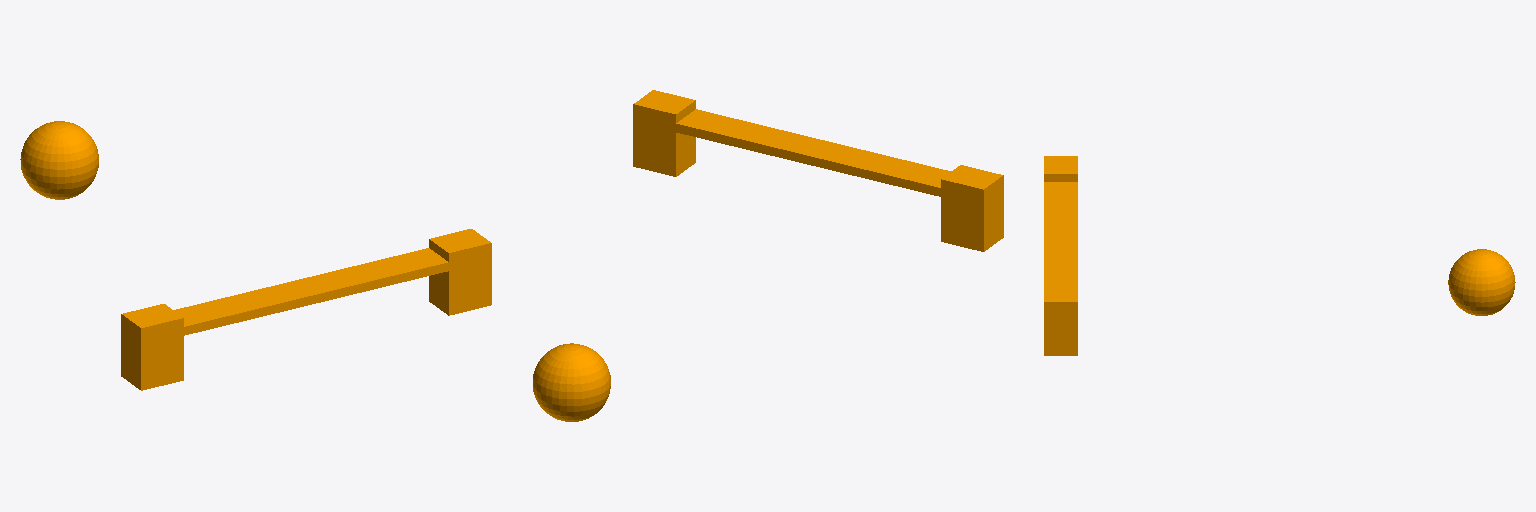
robot.urdf — gate:
<?xml version="1.0" ?>
<robot name = "gate">


    <link name = "base_left">
        <visual>
            <origin xyz = "-0.9 0 0.175" rpy = "0 0 0"/>
 
            <geometry>
                <box size = "0.25 0.2 0.35"/>
            </geometry>
            <material name = "red">
                <color rgba = "1.0 0.6470588235294118 0.0 0"/>
            </material>    
        </visual>
        <collision>
            <origin xyz = "-0.9 0 0.175" rpy = "0 0 0"/>
            <geometry>
                <box size = "0.25 0.2 0.35"/>
            </geometry>
            <!-- <origin xyz = "-0.9 0 0.15" rpy = "0 0 0"/> -->
        </collision>
        <inertial>
            <mass value="20"/>
            <inertia ixx="0.01" ixy="0.0" ixz="0.0" iyy="0.01" iyz="0.0" izz="0.01"/>
          </inertial>
      
    </link> 


    <link name = "base_up">
        <visual>
            <origin xyz = "0 0 0.275" rpy = "0 0 0"/>
            <geometry>
                <box size = "1.8 0.2 0.05"/>
            </geometry>
            <!-- <origin xyz = "0 0 0.275" rpy = "0 0 0"/> -->
            <material name = "red">
                <color rgba = "1.0 0.6470588235294118 0.0 0"/>
            </material>    

        </visual>
        <collision>
            <origin xyz = "0 0 0.275" rpy = "0 0 0"/>
            <geometry>
                <box size = "1.8 0.2 0.05"/>
            </geometry>
            <!-- <origin xyz = "0 0 0.275" rpy = "0 0 0"/> -->
        </collision>
        <inertial>
            <mass value="20"/>
            <inertia ixx="0.01" ixy="0.0" ixz="0.0" iyy="0.01" iyz="0.0" izz="0.01"/>
          </inertial>
      
    </link> 


    <joint name = "base_ji_left" type = 'fixed'>
        <parent link = "base_left"/>
        <child link = "base_up"/>
        <origin xyz = "0 0 0" rpy = "0 0 0"/>
    </joint>

    <link name = "base_right">
        <visual>
            <origin xyz = "0.9 0 0.175" rpy = "0 0 0"/>
            <geometry>
                <box size = "0.25 0.2 0.35"/>
            </geometry>
            <material name = "red">
                <color rgba = "1.0 0.6470588235294118 0.0 0"/>
            </material>    
            <!-- <origin xyz = "0.9 0 0.15" rpy = "0 0 0"/> -->
        </visual>
        <collision>
            <origin xyz = "0.9 0 0.175" rpy = "0 0 0"/>
            <geometry>
                <box size = "0.25 0.2 0.35"/>
            </geometry>
            
        </collision>
        <inertial>
            <mass value="20"/>
            <inertia ixx="0.01" ixy="0.0" ixz="0.0" iyy="0.01" iyz="0.0" izz="0.01"/>
          </inertial>
      
    </link> 

    <joint name = "base_ji_right" type = 'fixed'>
        <parent link = "base_up"/>
        <child link = "base_right"/>
        <origin xyz = "0 0 0" rpy = "0 0 0"/>
    </joint>

  <link name="ball">
    <visual>
      <origin xyz="0 2.5 0"/>
      <geometry>
        <sphere radius="0.2"/>
      </geometry>
            <material name = "red">
                <color rgba = "1.0 0.6470588235294118 0.0 0"/>
            </material>    
    </visual>
    <collision>
      <origin xyz="0 2.5 0"/>
      <geometry>
        <sphere radius="0.2"/>
      </geometry>
    </collision>
    <inertial>
      <mass value="0.5"/>
      <inertia ixx="0.01" ixy="0.0" ixz="0.0" iyy="0.01" iyz="0.0" izz="0.01"/>
    </inertial>
  </link>


    <joint name = "base_ji_back" type = 'fixed'>
        <parent link = "base_up"/>
        <child link = "ball"/>
        <origin xyz = "0 0 0" rpy = "0 0 0"/>
    </joint>

    


</robot>

--- Render facts (derived) ---
The picture shows the robot from 3 angles, left to right: view 1: azimuth 30°, elevation 25°; view 2: azimuth 150°, elevation 25°; view 3: azimuth 270°, elevation 25°; orthographic projection.
Robot: gate — 4 links, 3 joints (3 fixed); root link base_left; default pose: every joint at zero.
Links seen in each view (by area): view 1: base_up, ball, base_left, base_right; view 2: base_up, ball, base_left, base_right; view 3: ball, base_up, base_right, base_left.
Link boxes in pixels (<box>): base_up: <box>163,248,469,340</box>; ball: <box>20,121,98,199</box>; base_left: <box>121,304,183,390</box>; base_right: <box>429,229,491,315</box>; base_up: <box>655,109,958,196</box>; ball: <box>533,343,610,421</box>; base_left: <box>941,165,1003,251</box>; base_right: <box>633,90,695,176</box>; ball: <box>1448,249,1515,315</box>; base_up: <box>1044,182,1077,283</box>; base_right: <box>1044,284,1077,355</box>; base_left: <box>1044,156,1077,181</box>.
Size in the robot's own frame: 2.05 by 2.8 by 0.55 metres.
Geometry: primitives only (box / cylinder / sphere), no mesh files.